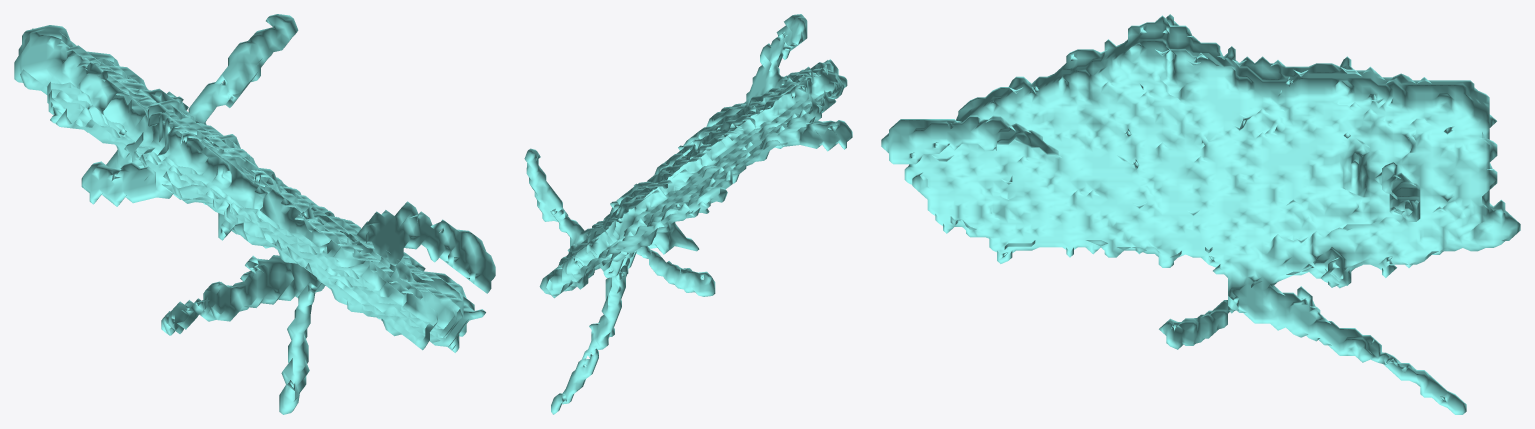
The model's file is osteocyte_46.glb.
The picture shows the model from 3 angles, left to right: view 1: azimuth 30°, elevation 25°; view 2: azimuth 150°, elevation 25°; view 3: azimuth 270°, elevation 25°; orthographic projection. The views are drawn at different scales.
Visible parts, largest first — view 1: osteocyte_46; view 2: osteocyte_46; view 3: osteocyte_46.
Part boxes in pixels (bbox=[...]): osteocyte_46: bbox=[14, 14, 495, 414]; osteocyte_46: bbox=[524, 14, 852, 414]; osteocyte_46: bbox=[881, 14, 1520, 414].
Bounding box in the file's own units: 20.7 × 22.63 × 39.96.
